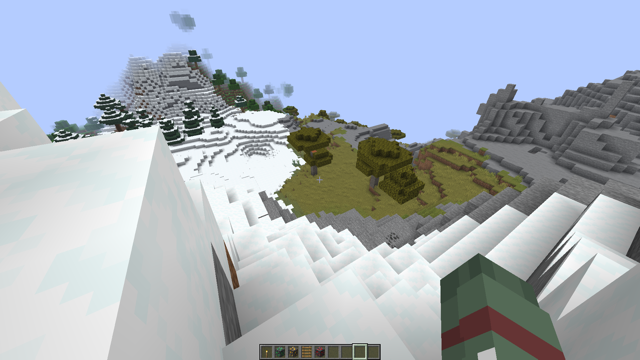coal: (380, 228, 403, 248)
